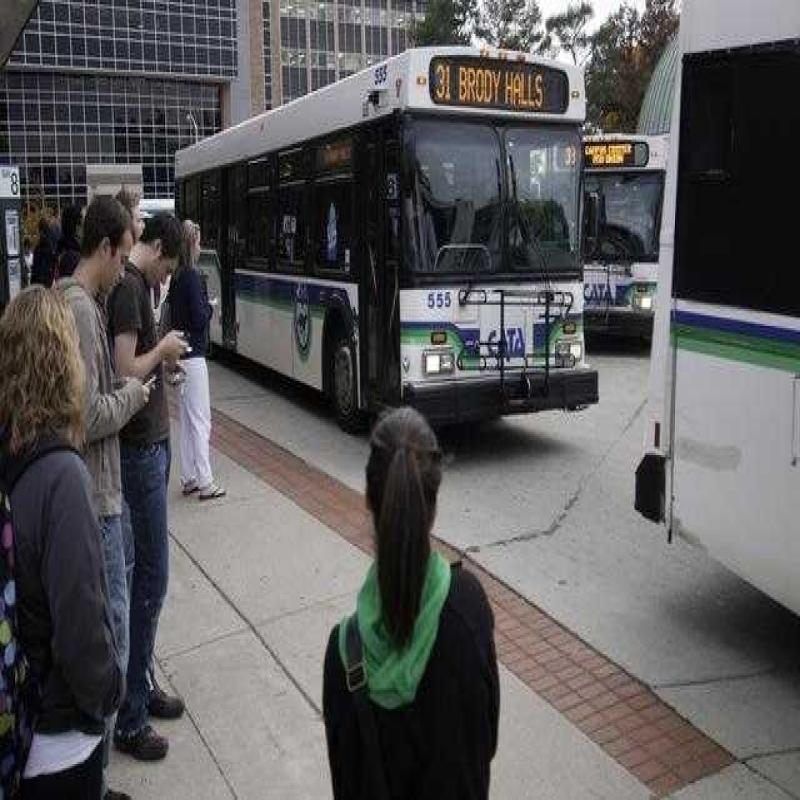bus: (165, 34, 599, 436)
